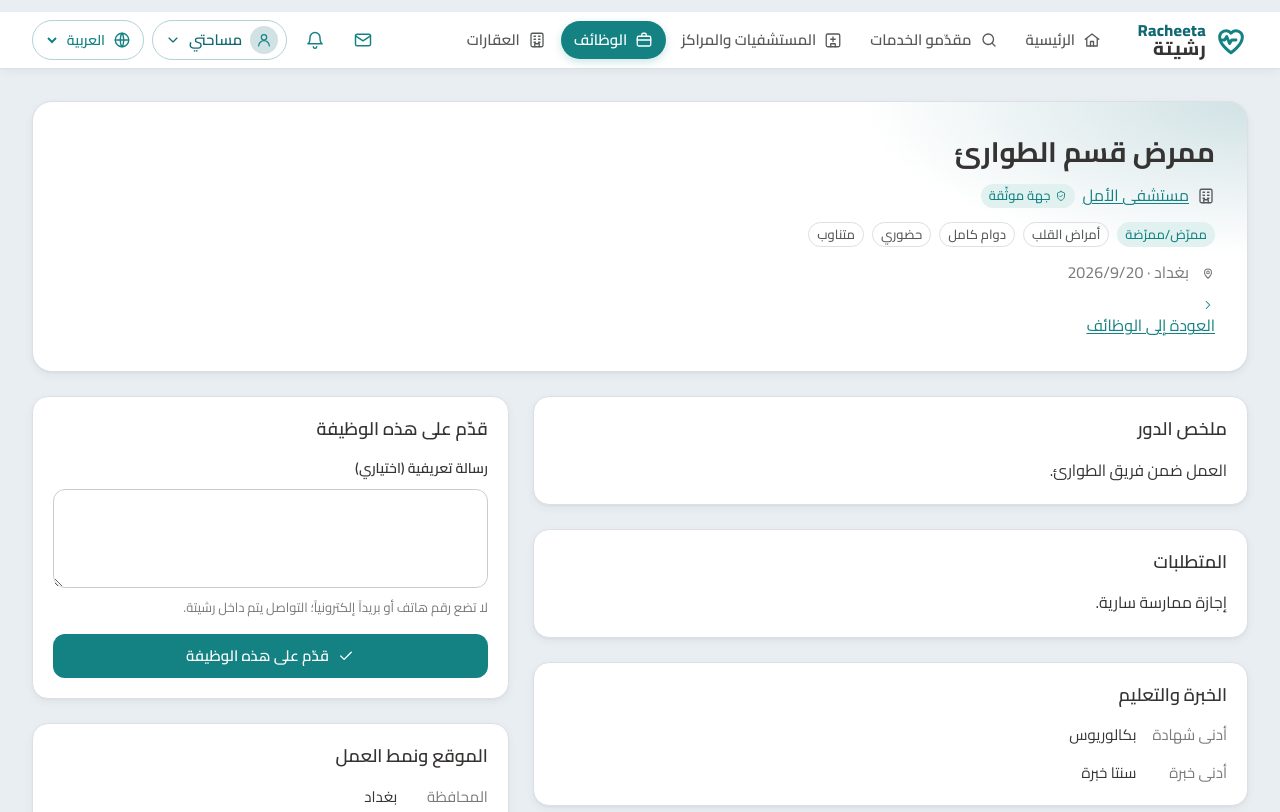
Test case: JobDetailPage › applies with the circular loading contract and shows the success state
Type "أرغب بالانضمام" into the text box labelled "رسالة تعريفية (اختياري)" at (270, 538), box [53,489,488,588]
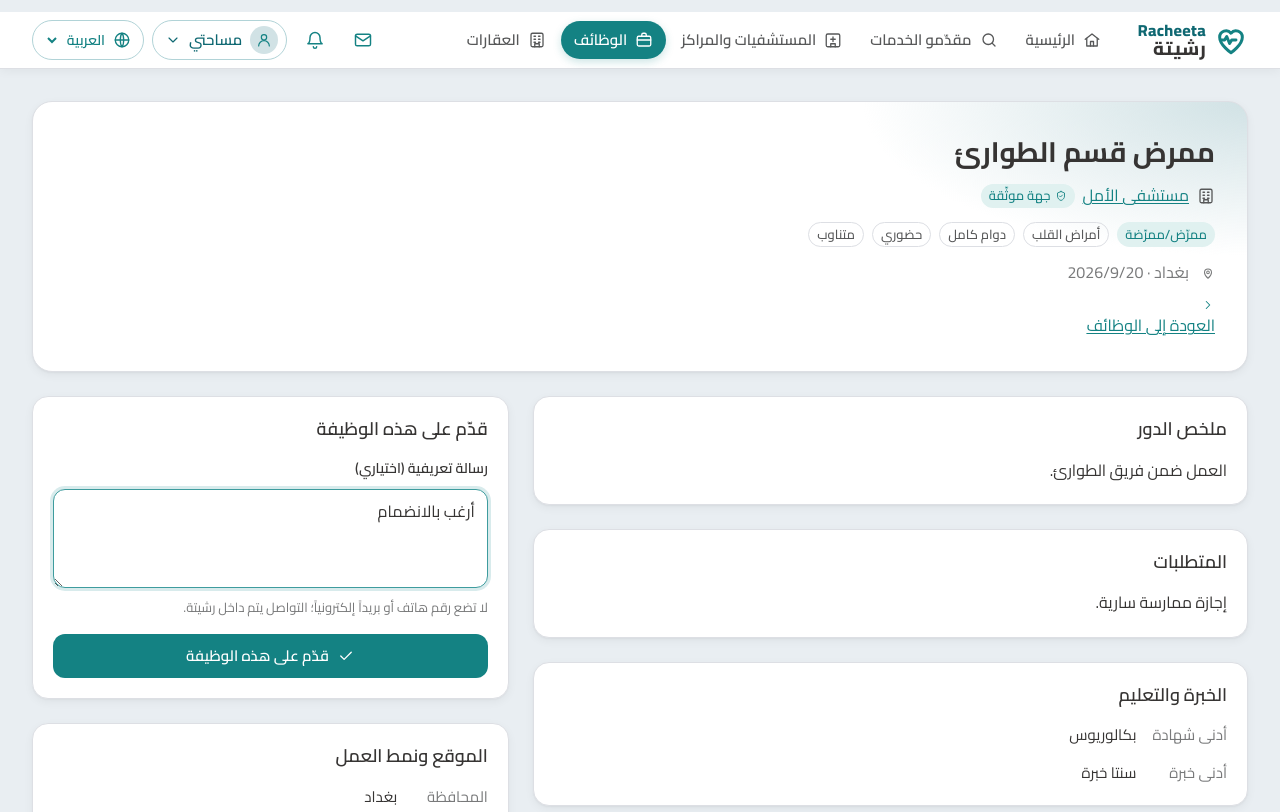
Click the button "قدّم على هذه الوظيفة" at (270, 656), box [53,634,488,678]
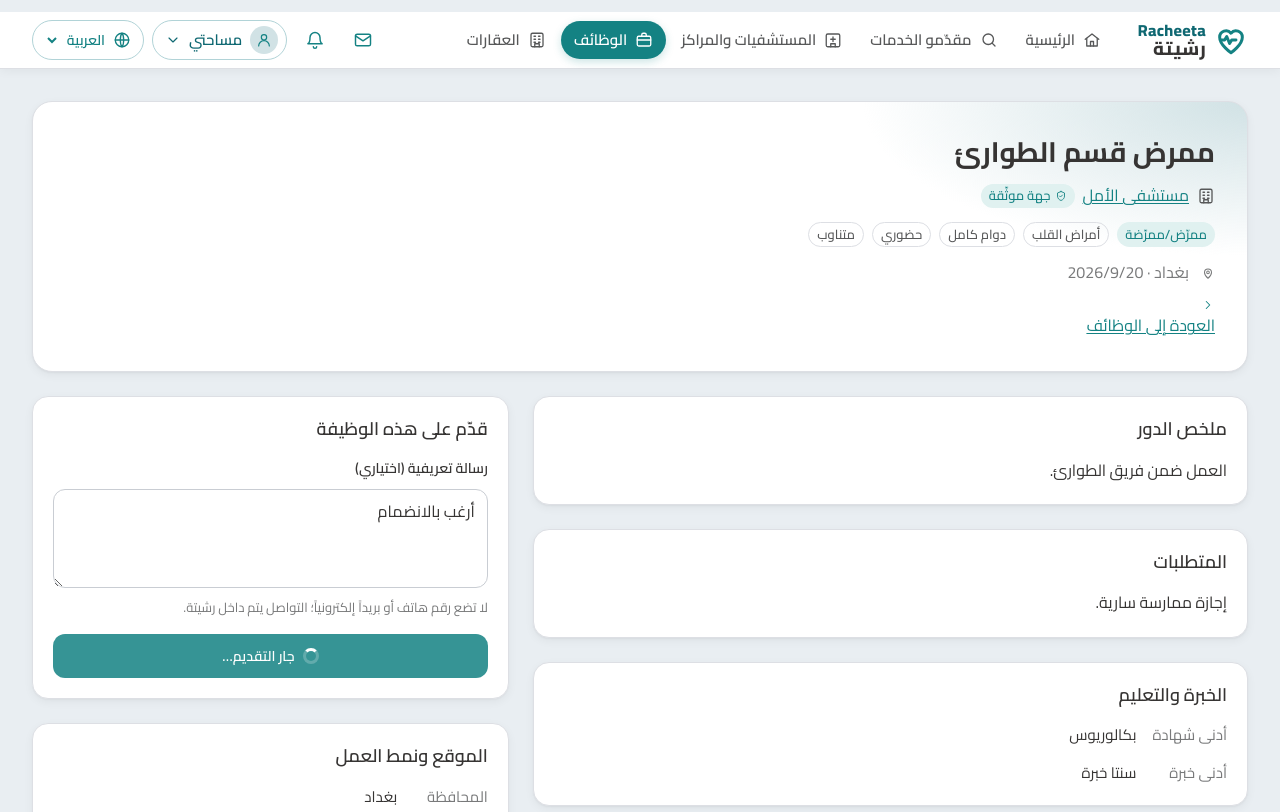
Expected: the button "جارٍ التقديم…" is disabled
Click the button "جارٍ التقديم…" at (270, 656), box [53,634,488,678]
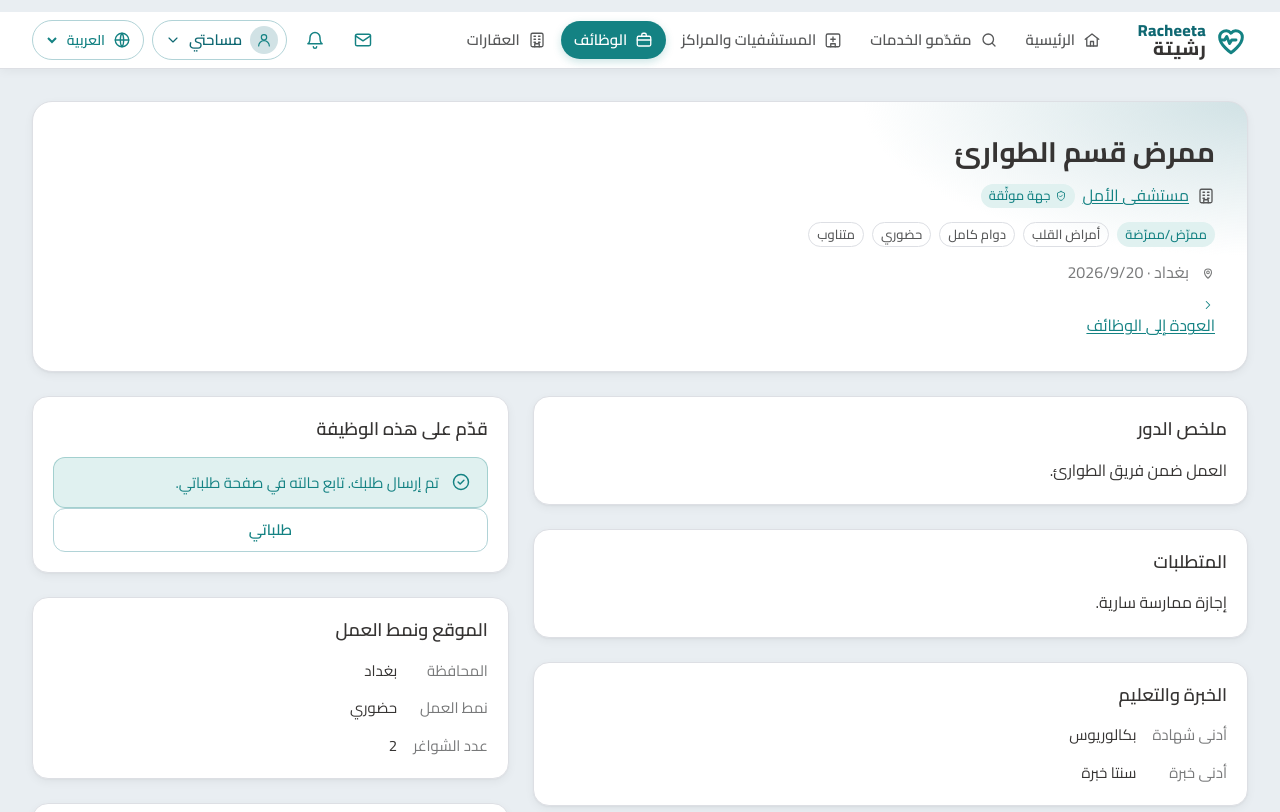
Expected: the text "تم إرسال طلبك. تابع حالته في صفحة طلباتي." is shown, [175,468,439,497]
